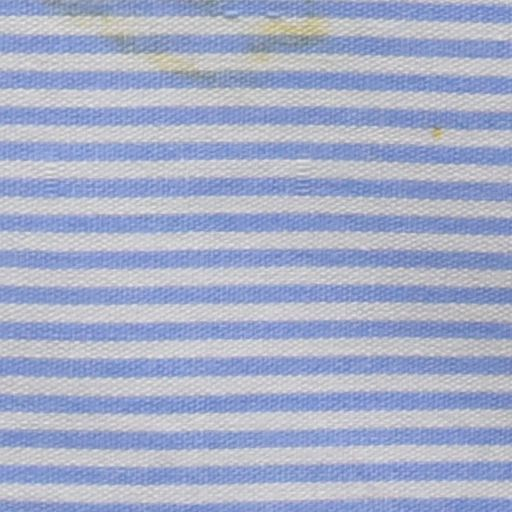defect: (251, 12, 319, 50)
